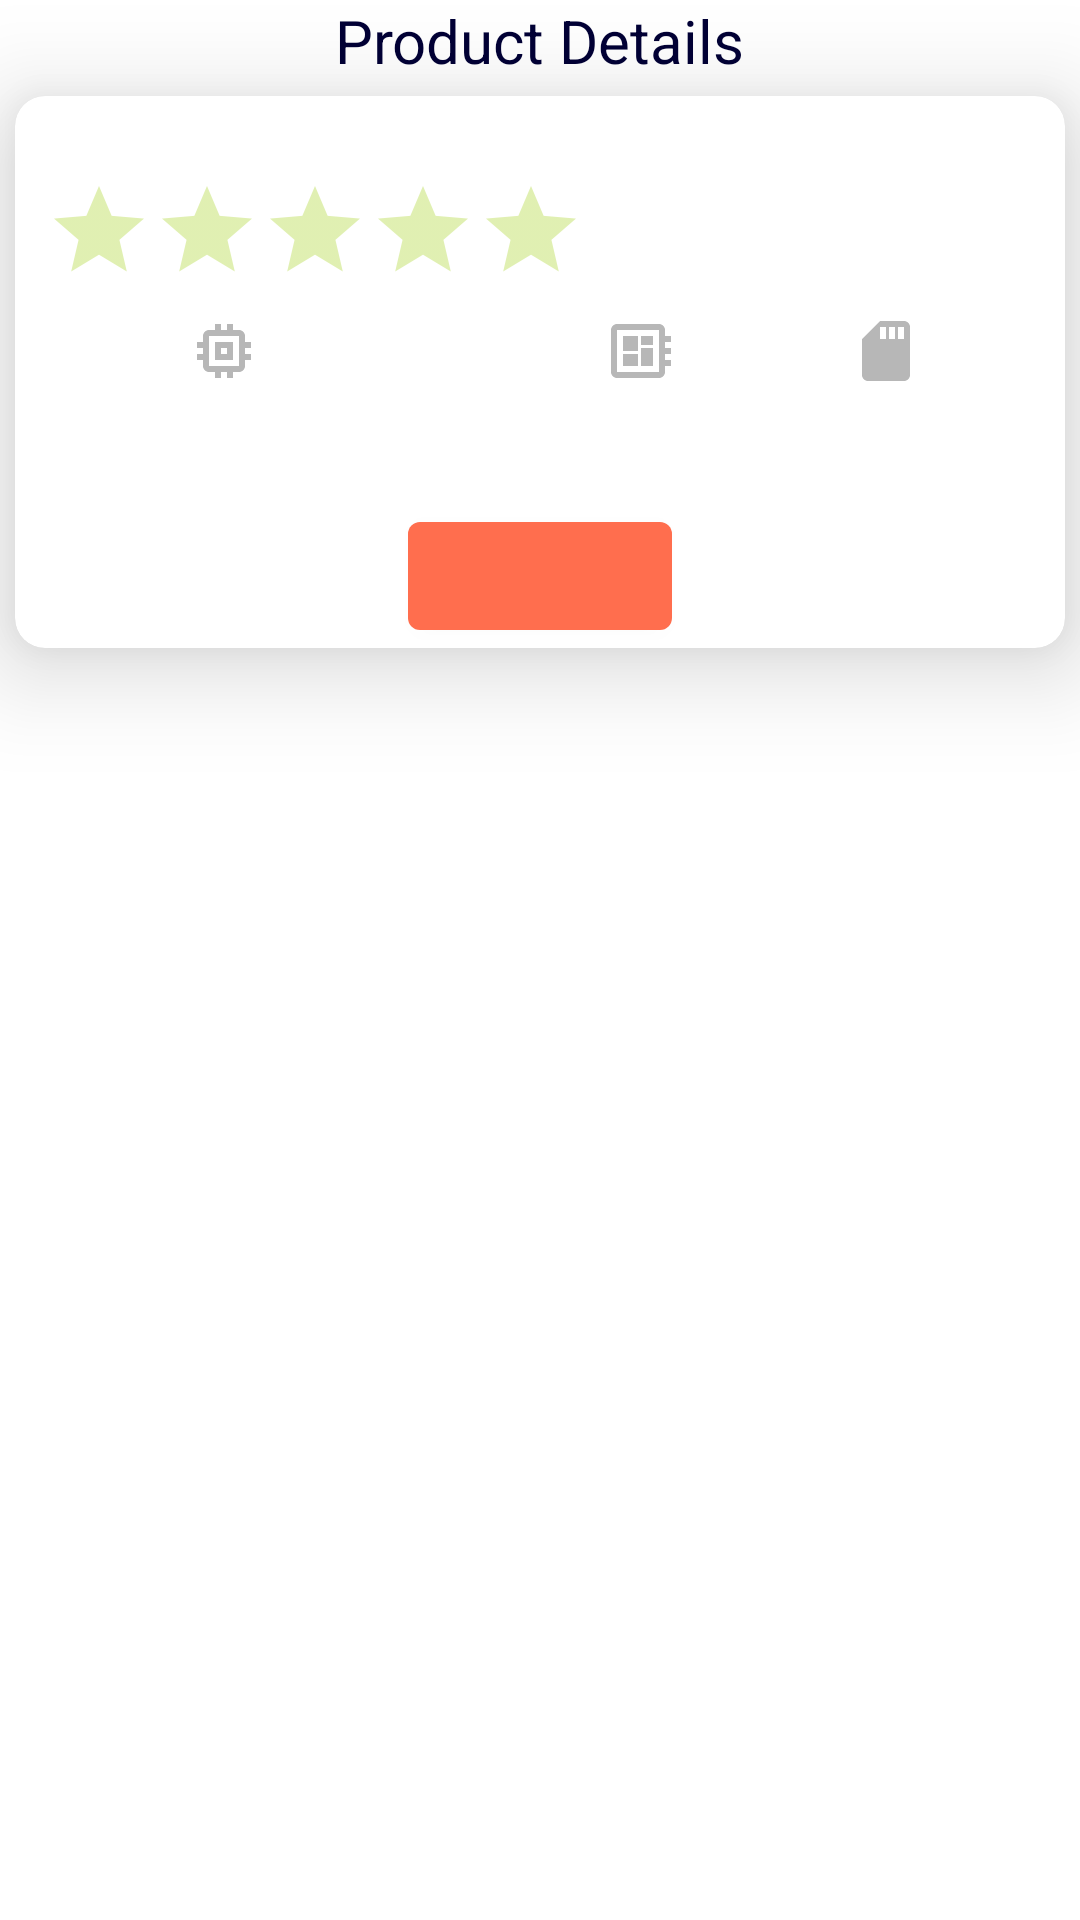

Named icons in this screenshot (1080 x 1920) and their bounding boxes, (x1, y1, x2, y2):
proc: (197, 324, 251, 378)
ram: (611, 324, 671, 378)
sd card: (862, 321, 910, 381)
